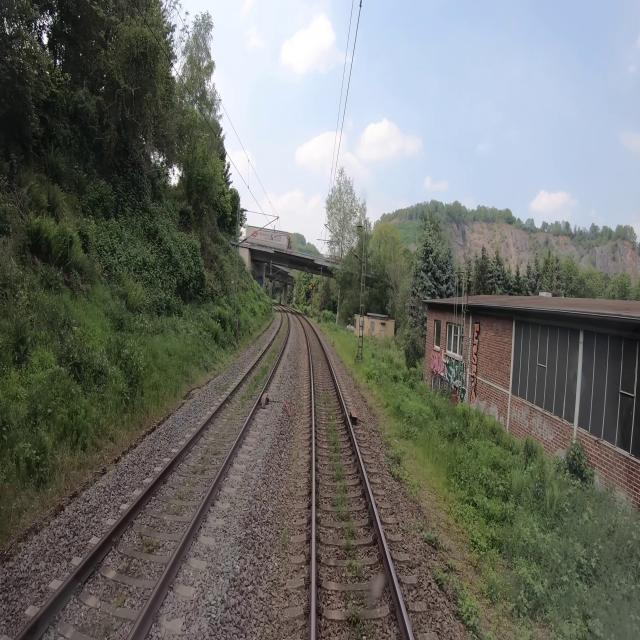Plant: (239, 346, 278, 407), (326, 411, 340, 455), (341, 516, 358, 540), (347, 553, 363, 578), (347, 604, 363, 625), (335, 483, 349, 507), (334, 464, 345, 483), (322, 394, 336, 406), (343, 532, 351, 550), (434, 568, 442, 585)
